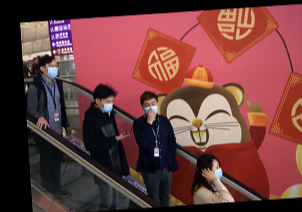with_mask: (42, 61, 59, 79), (142, 98, 158, 117), (98, 97, 115, 113), (210, 162, 223, 180)
